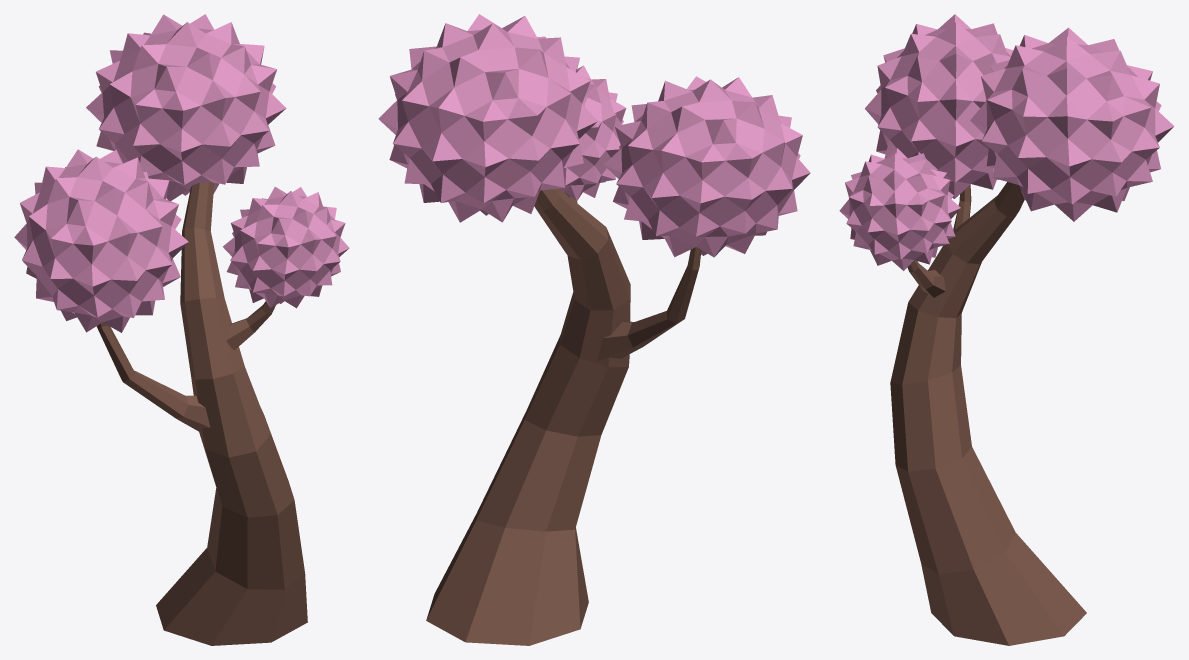
File: fantasy_plant_020.fbx
The picture shows the model from 3 angles, left to right: view 1: azimuth 30°, elevation 25°; view 2: azimuth 150°, elevation 25°; view 3: azimuth 270°, elevation 25°; orthographic projection. The views are drawn at different scales.
Visible parts, largest first — view 1: fantasy_plant.020; view 2: fantasy_plant.020; view 3: fantasy_plant.020.
Boxes of the visible parts, box(x1,y1,x2,y2) form: fantasy_plant.020: box(14, 14, 349, 645); fantasy_plant.020: box(378, 14, 810, 645); fantasy_plant.020: box(839, 14, 1174, 645).
Bounding box in the file's own units: 358 × 628 × 335.
Materials: 1 (1 with a texture image).
